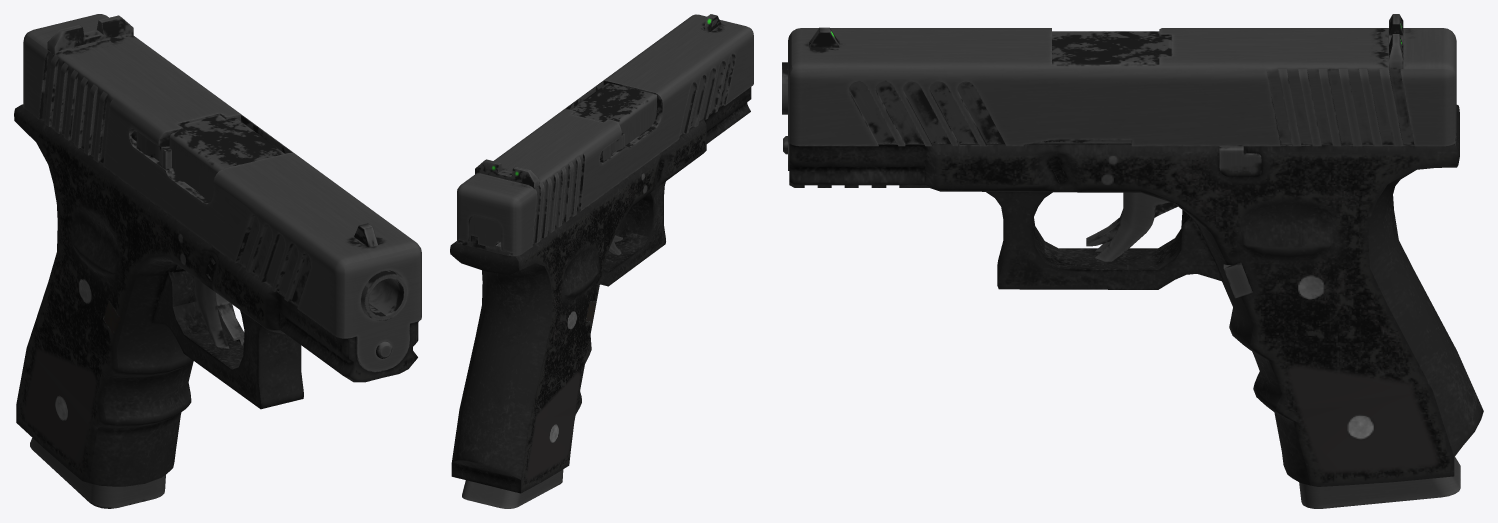
3 views of the same model, side by side, from view 1: azimuth 30°, elevation 25°; view 2: azimuth 150°, elevation 25°; view 3: azimuth 270°, elevation 25° (orthographic). The views are drawn at different scales.
Visible parts, largest first — view 1: Display1.001; view 2: Display1.001; view 3: Display1.001.
Boxes of the visible parts, x1,y1,x2,y2 form: Display1.001: [14, 14, 421, 508]; Display1.001: [450, 14, 753, 508]; Display1.001: [782, 14, 1483, 508].
Size of the model in its own units: 18.34 by 75.59 by 104.
